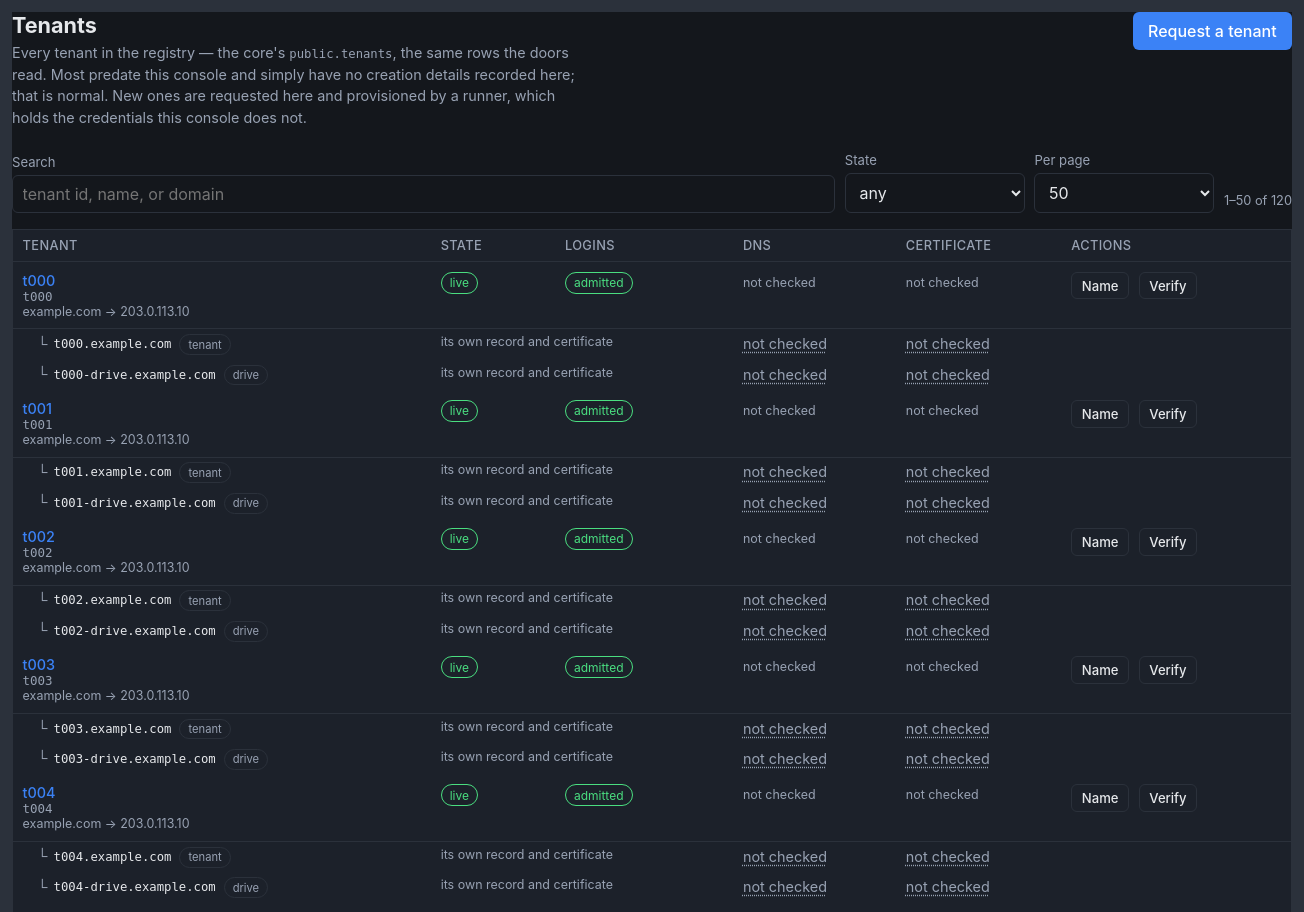
Test: the pager › can show everything at once
Select "all" in the dropdown labelled "Per page" at (1124, 193), box left=1034, top=173, right=1214, bottom=213
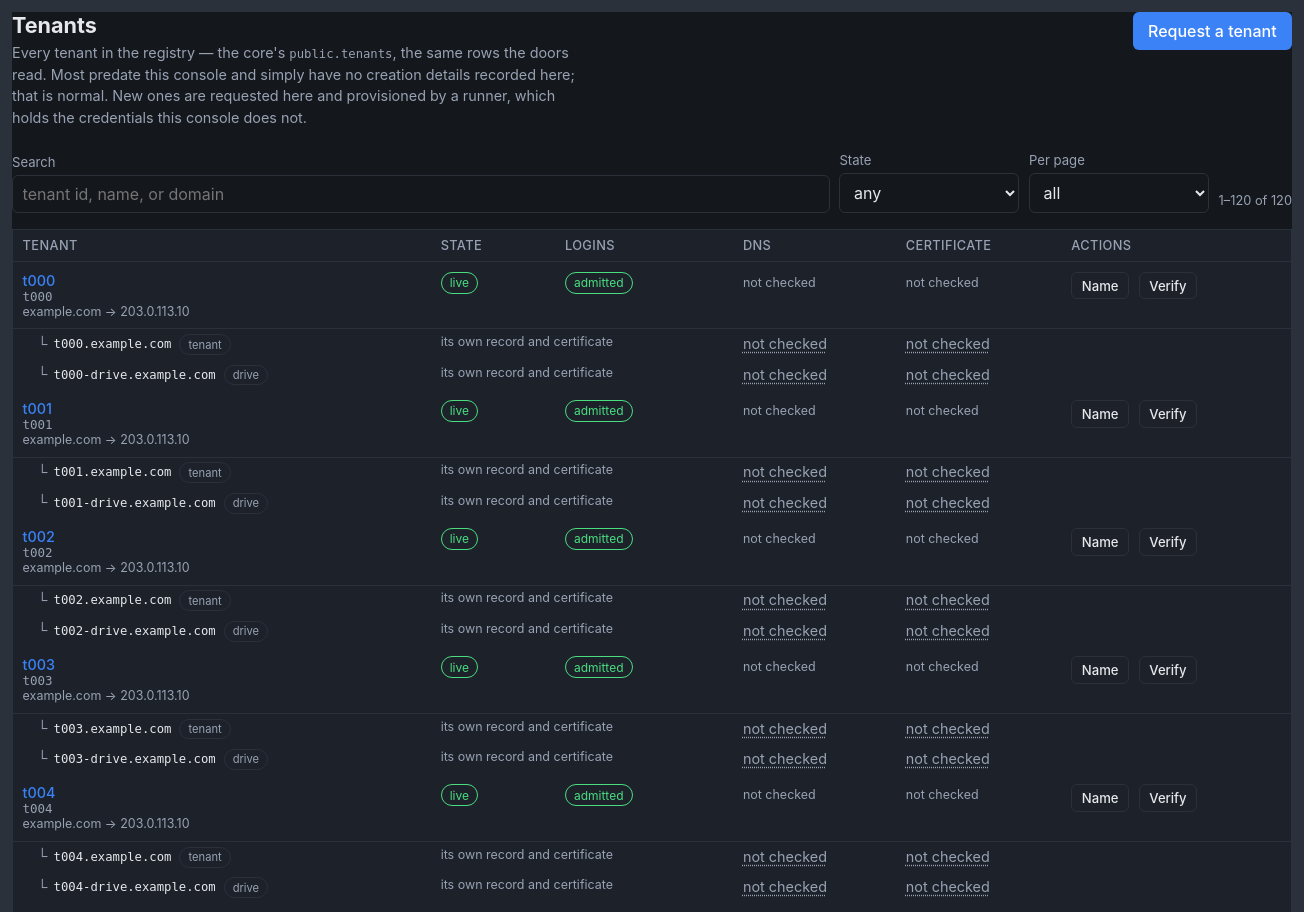
Expected: the text "1–120 of 120" is shown, left=1219, top=193, right=1292, bottom=208
